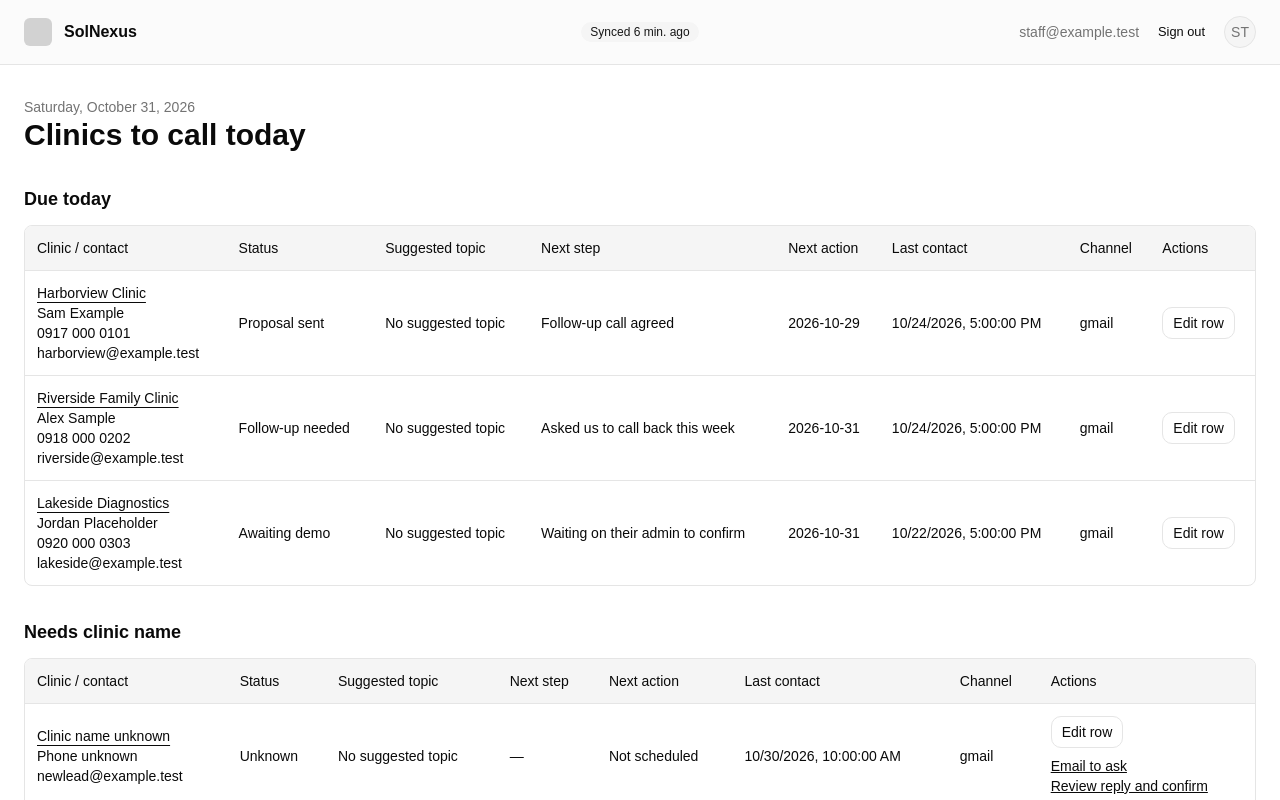
Test: staff session › keeps staff signed in and says so when sign-out fails
The image size is (1280, 800).
Click the button "Sign out": (1182, 32) top-left (1147, 18), bottom-right (1216, 46)
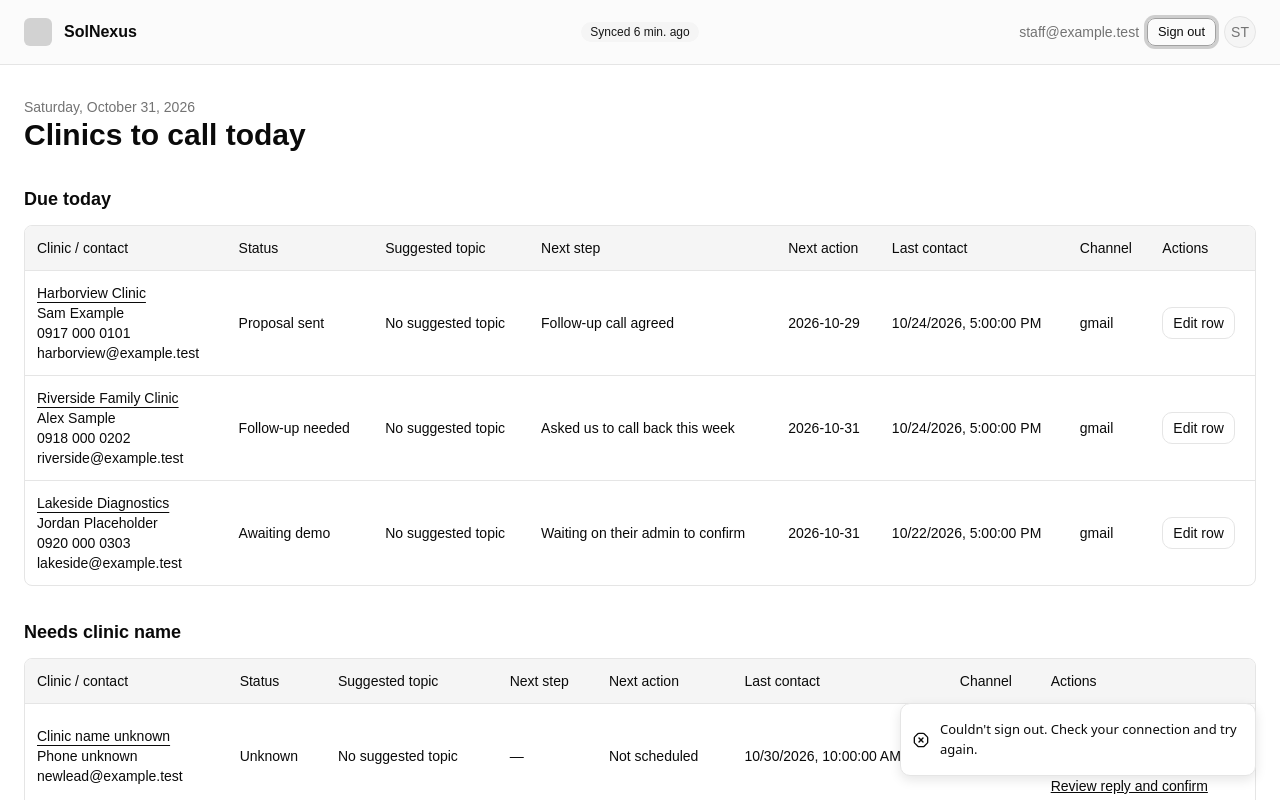
Expected: the text "staff@example.test" is shown, top-left (1019, 22), bottom-right (1139, 42)
Now the text "Couldn't sign out. Check your connection and try again." is shown, box top-left (940, 720), bottom-right (1239, 759)
